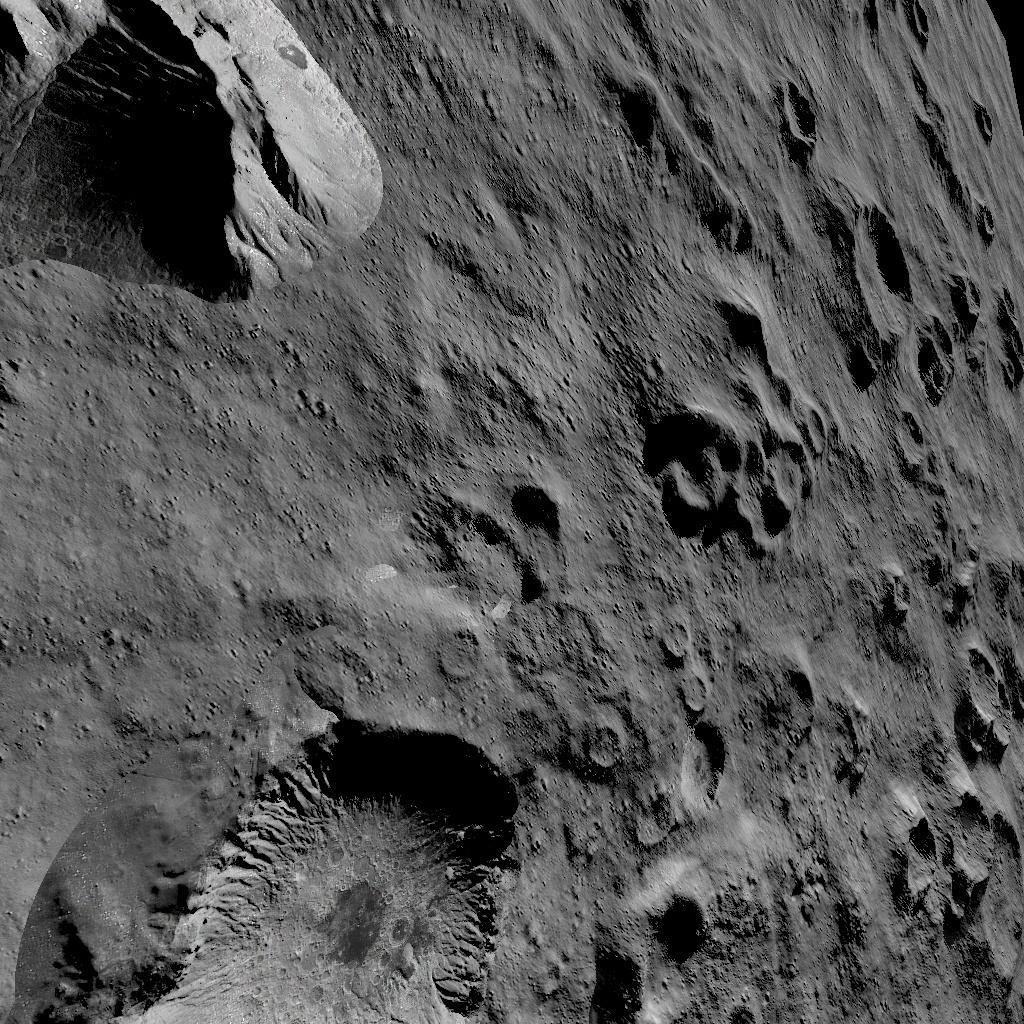Boulders: (0, 2, 408, 306)
Crater: (59, 712, 557, 1024), (653, 398, 853, 556), (437, 482, 591, 614), (909, 790, 1024, 958), (667, 620, 756, 828), (605, 890, 740, 1024), (829, 189, 920, 380), (933, 275, 1024, 398), (962, 644, 1024, 766), (779, 666, 840, 756), (777, 68, 834, 158), (893, 408, 959, 482), (589, 722, 648, 785), (443, 624, 501, 688), (910, 0, 952, 42), (975, 94, 1008, 145), (988, 196, 1013, 250)
Plan surface: (0, 320, 424, 696), (437, 2, 629, 462)
